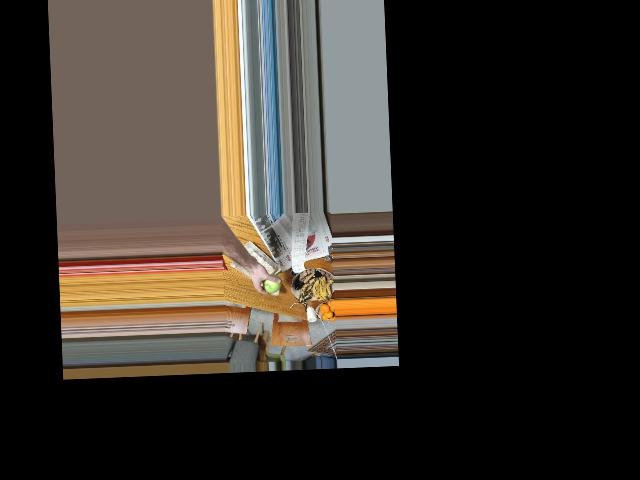apple: (258, 266, 281, 293)
